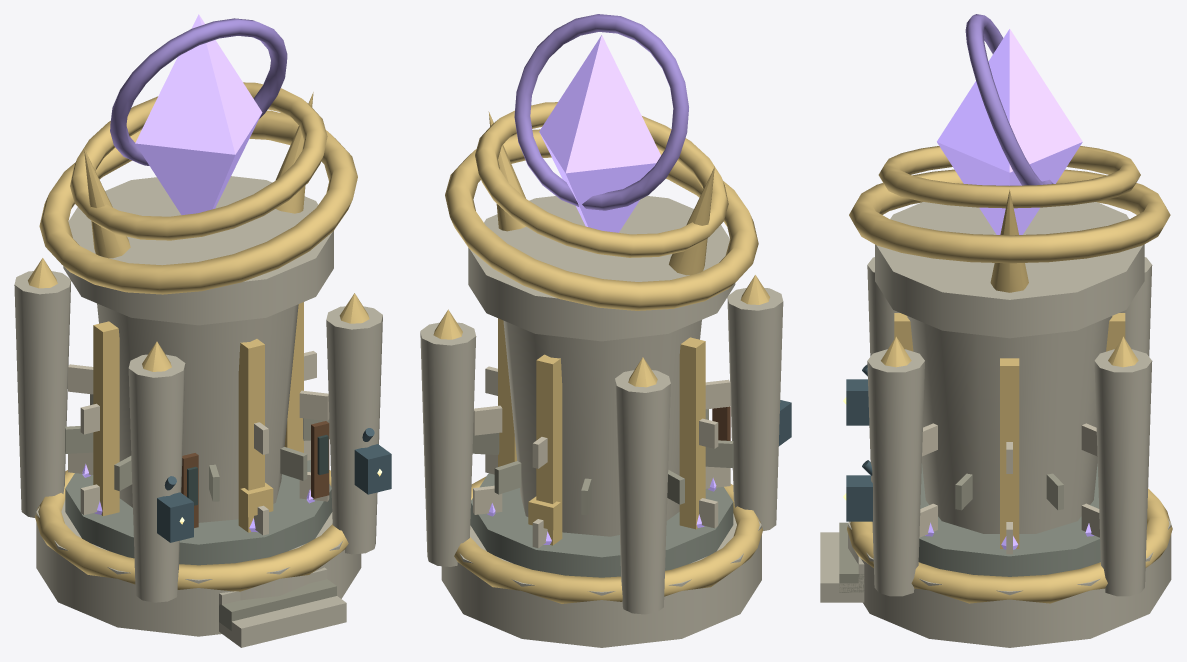
File: tower-arcane-2-base.glb
3 views of the same model, side by side, from view 1: azimuth 30°, elevation 25°; view 2: azimuth 150°, elevation 25°; view 3: azimuth 270°, elevation 25° (orthographic).
Visible parts, largest first — view 1: Foundation, Turret, arcane-L2-base; view 2: Foundation, Turret, arcane-L2-base; view 3: Foundation, Turret, arcane-L2-base.
Boxes of the visible parts, x1,y1,x2,y2 form: Foundation: (14, 258, 391, 647); Turret: (39, 14, 357, 325); arcane-L2-base: (36, 460, 361, 636); Foundation: (420, 275, 791, 614); Turret: (445, 14, 758, 341); arcane-L2-base: (441, 473, 761, 647); Foundation: (820, 257, 1172, 603); Turret: (849, 14, 1170, 338); arcane-L2-base: (848, 463, 1171, 647).
Size of the model in its own units: 1.69 by 3.19 by 1.83.
